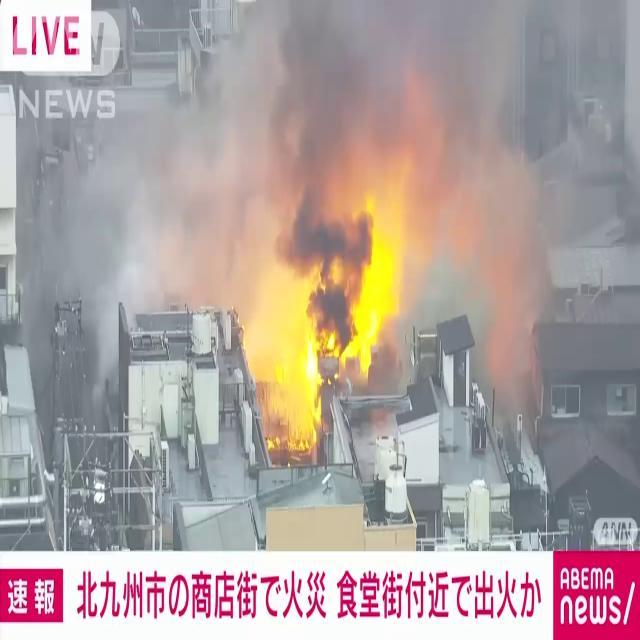Fire: (249, 170, 399, 447)
Smoke: (117, 0, 553, 315)
